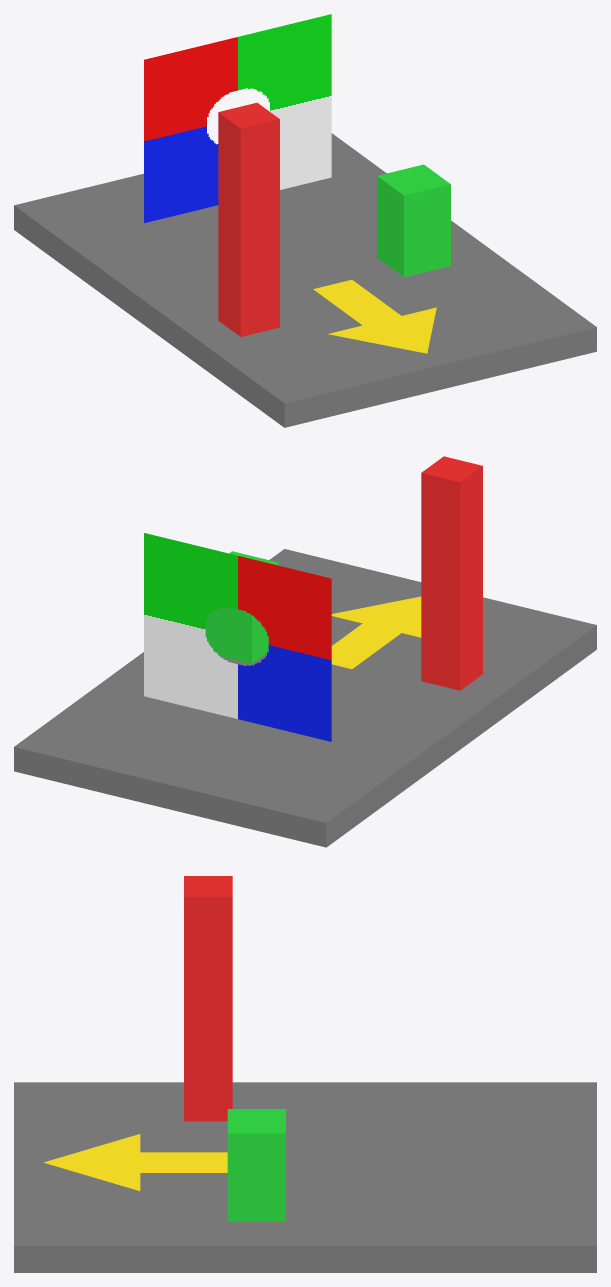
File: orts_static_probe.glb
3 views of the same model, one above another, from view 1: azimuth 30°, elevation 25°; view 2: azimuth 150°, elevation 25°; view 3: azimuth 270°, elevation 25° (orthographic). The views are drawn at different scales.
Parts seen in each view (by area): view 1: Ground_pivot_base_4x6m, Cutout_UV_panel, Tall_red_tower, Short_green_tower, Yellow_FORWARD_minus_Blender_Y; view 2: Ground_pivot_base_4x6m, Cutout_UV_panel, Tall_red_tower, Yellow_FORWARD_minus_Blender_Y, Short_green_tower; view 3: Ground_pivot_base_4x6m, Tall_red_tower, Short_green_tower, Yellow_FORWARD_minus_Blender_Y.
Boxes of the visible parts, <box> form: Ground_pivot_base_4x6m: <box>14,133,596,427</box>; Cutout_UV_panel: <box>144,14,331,223</box>; Tall_red_tower: <box>218,102,279,336</box>; Short_green_tower: <box>377,164,450,277</box>; Yellow_FORWARD_minus_Blender_Y: <box>313,279,436,353</box>; Ground_pivot_base_4x6m: <box>14,549,596,847</box>; Cutout_UV_panel: <box>144,533,331,741</box>; Tall_red_tower: <box>421,456,482,690</box>; Yellow_FORWARD_minus_Blender_Y: <box>331,596,421,669</box>; Short_green_tower: <box>205,551,278,663</box>; Ground_pivot_base_4x6m: <box>14,1082,596,1272</box>; Tall_red_tower: <box>184,876,232,1121</box>; Short_green_tower: <box>227,1109,285,1221</box>; Yellow_FORWARD_minus_Blender_Y: <box>43,1134,227,1190</box>.
Bounding box in the file's own units: 4 × 2.85 × 6.
5 materials, 1 textured.
